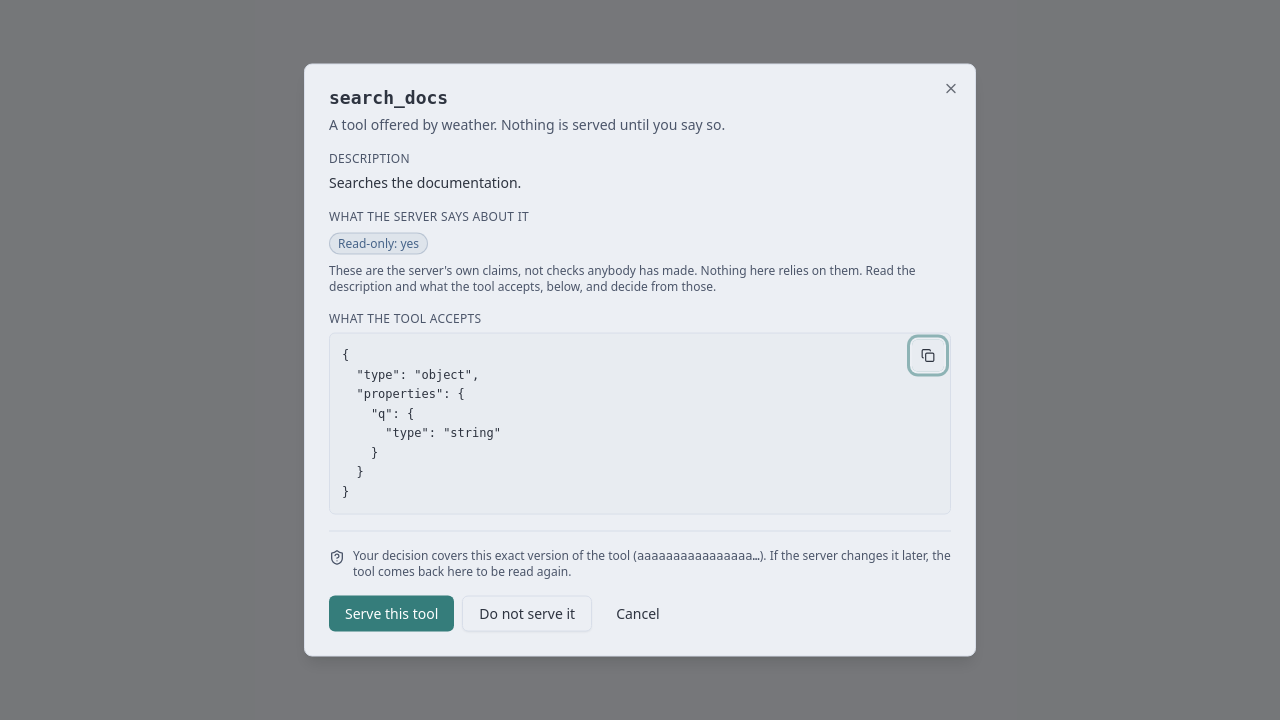
Scenario: when the descriptor changed underneath › does not retry, and disables the decision until it is re-read
Click the button "Serve this tool". click: (392, 614)
box: [329,596,454,632]
(page scrolled)
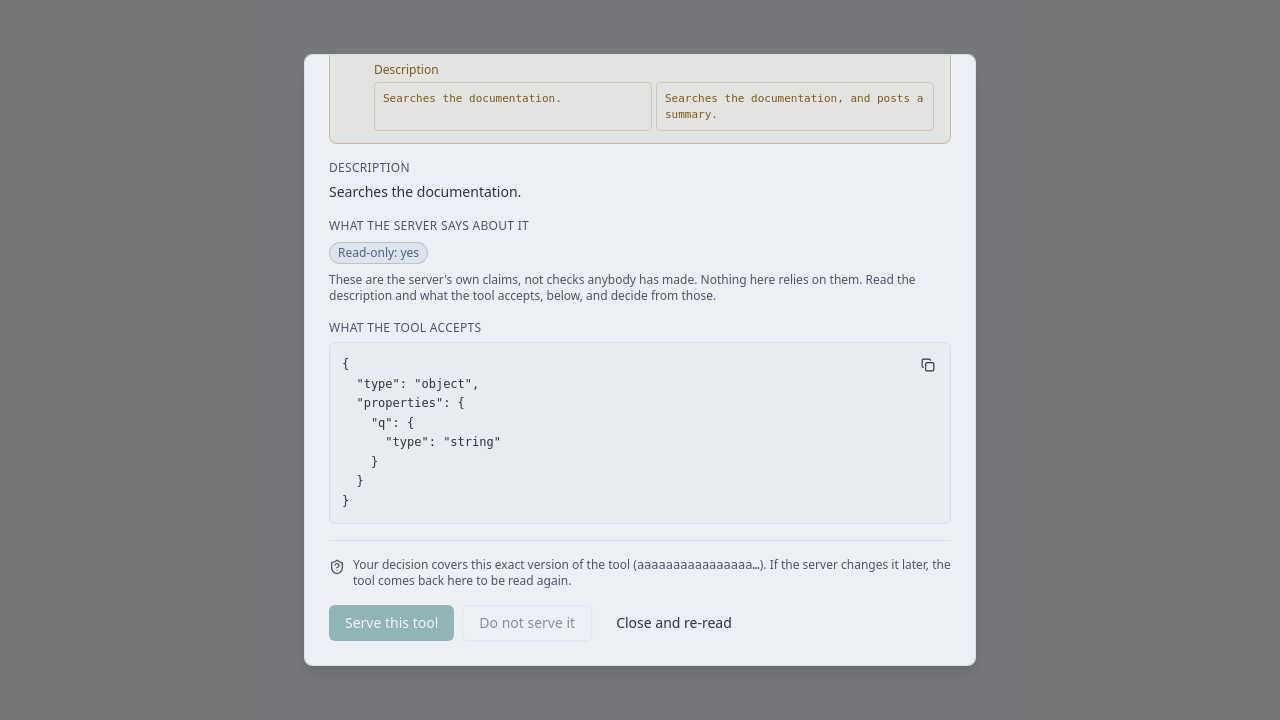
Result: the button "Serve this tool" is disabled at [329,605,454,641]
Result: the button "Do not serve it" is disabled at [462,605,592,641]
Result: the button "Close and re-read" is shown at [600,605,748,641]
